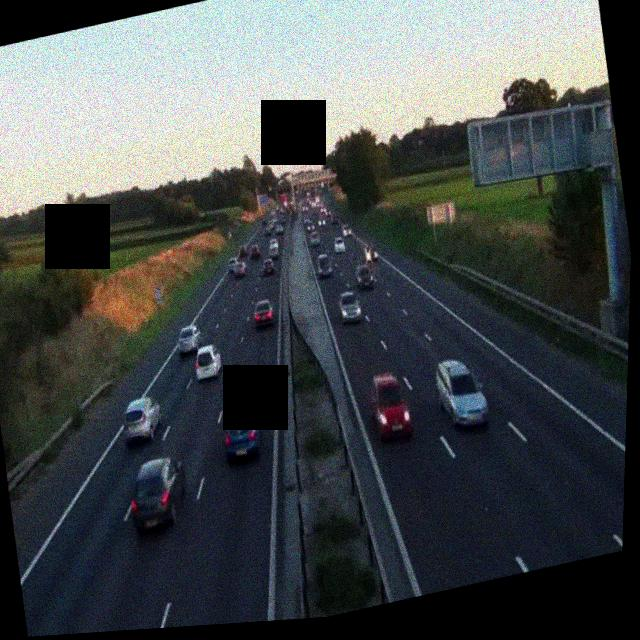car: (124, 452, 192, 534), (432, 353, 491, 434), (364, 367, 415, 445), (219, 402, 265, 464), (118, 393, 167, 448), (191, 341, 225, 382), (175, 324, 203, 358), (337, 289, 363, 324), (252, 298, 277, 330), (353, 262, 376, 293), (316, 253, 333, 278), (230, 256, 246, 279), (364, 243, 380, 264), (261, 257, 276, 278), (331, 237, 346, 255), (267, 240, 280, 259), (309, 232, 322, 249), (341, 223, 354, 239), (238, 241, 251, 256), (250, 244, 262, 259), (275, 223, 285, 237)
